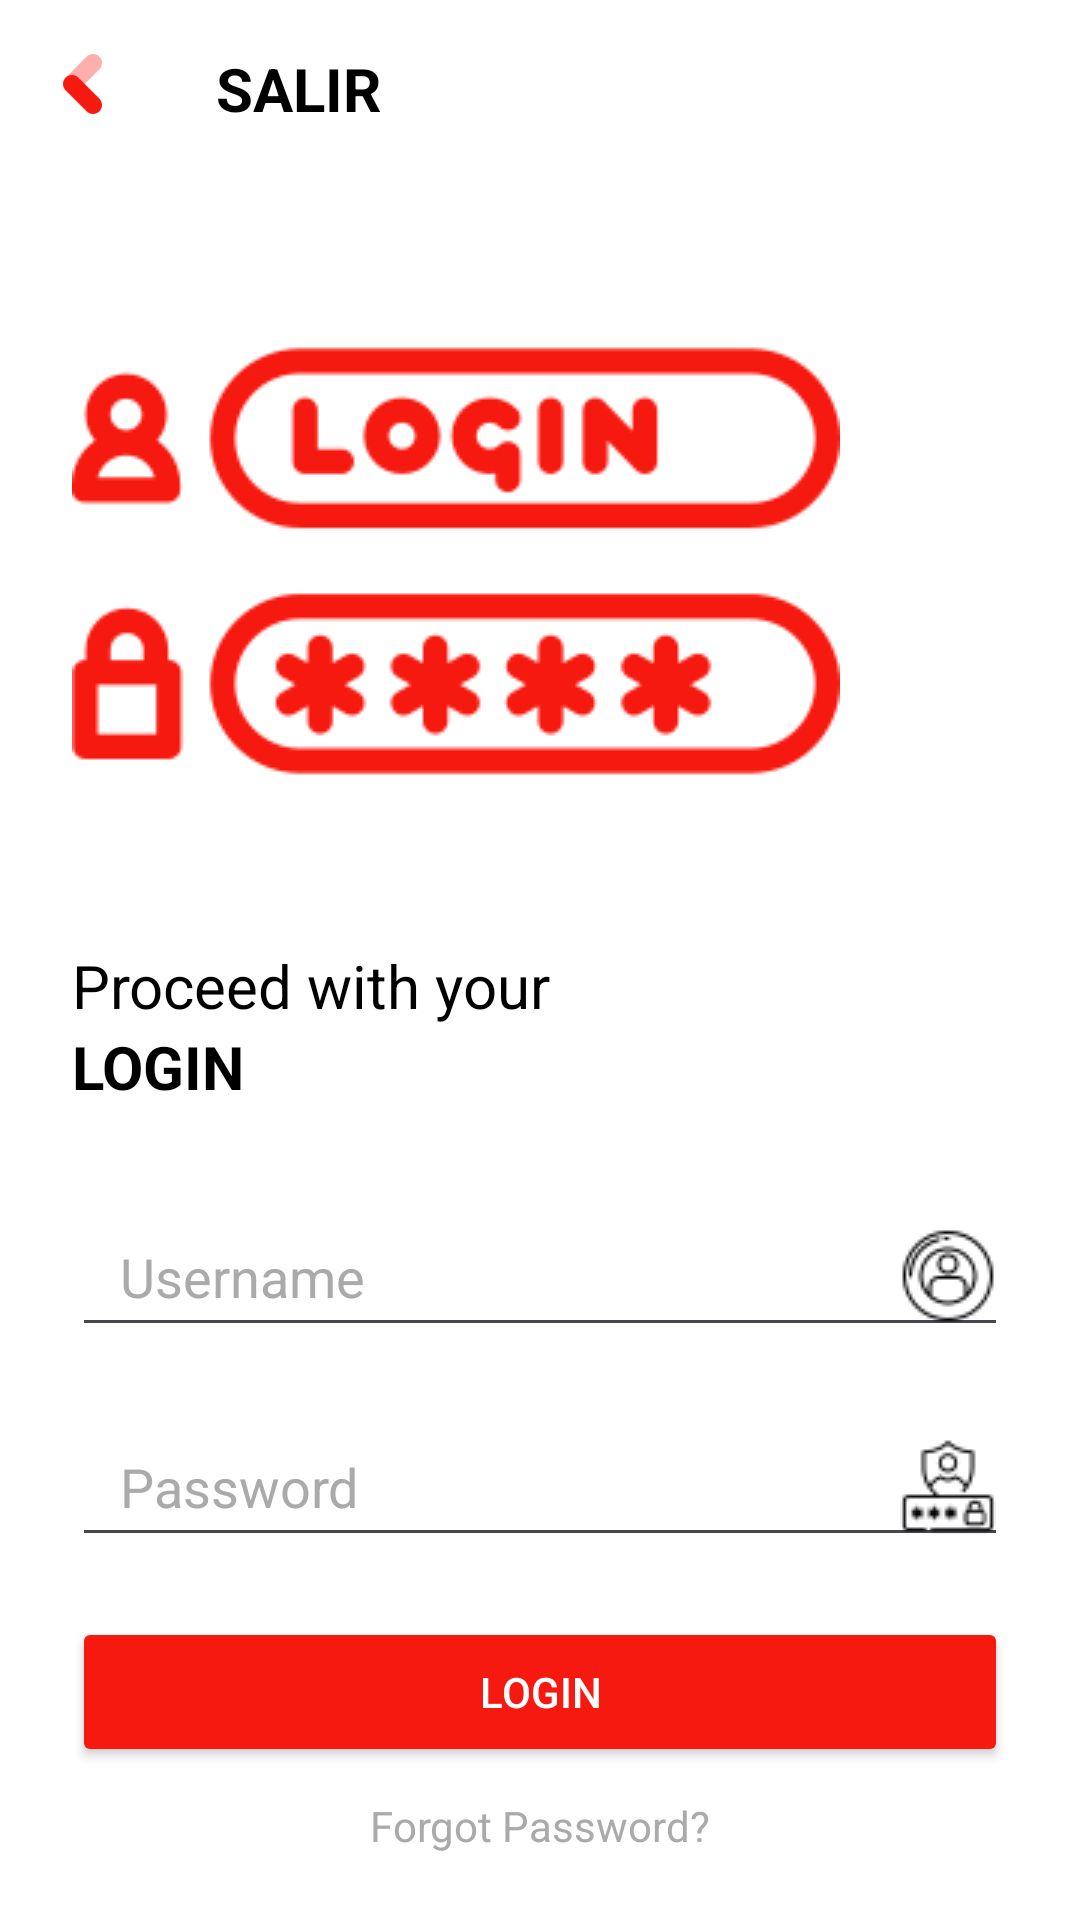

Where icons sit on this 1080w x 1920h app screen, as bbox=[x1, y1, x2, y2]:
atras: bbox=[63, 54, 102, 114]
